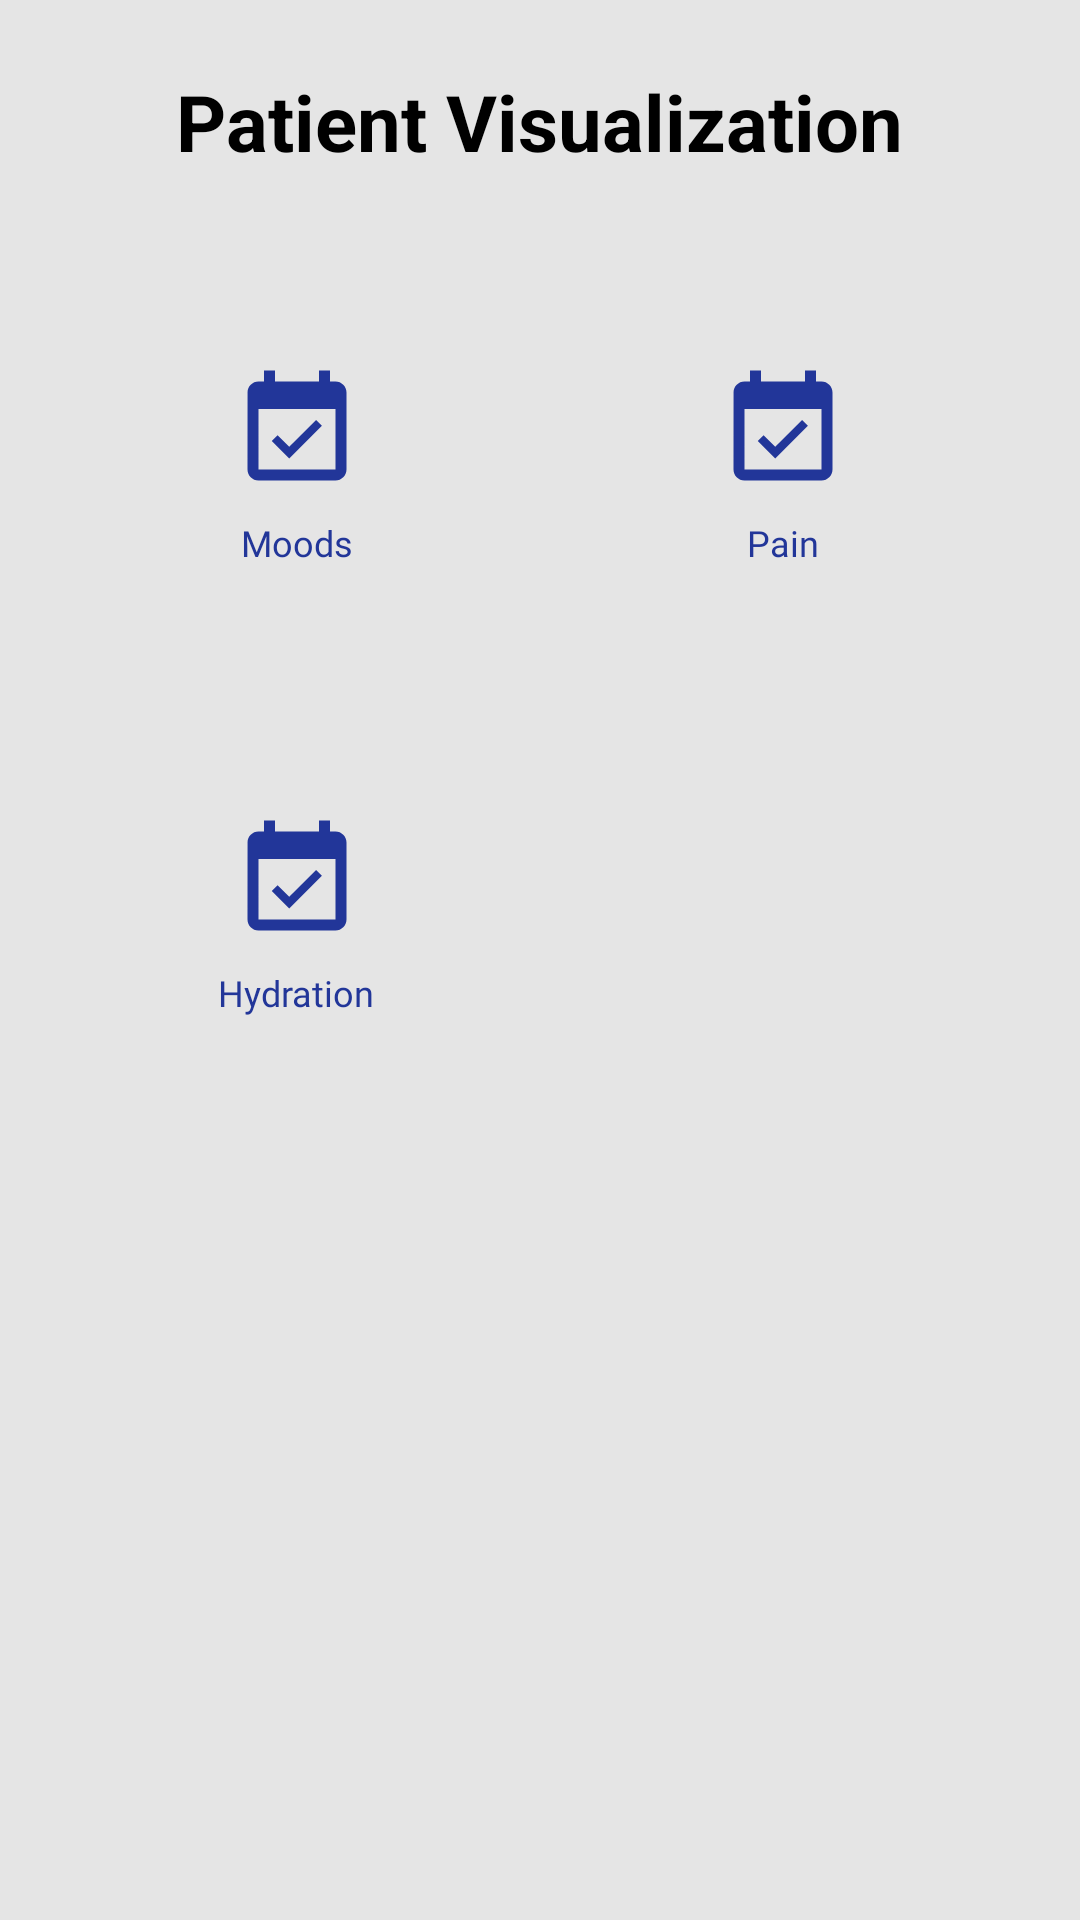

Named icons in this screenshot (1080*1920) and their bounding boxes, box(x1, y1, x2, y2):
calendar: box(247, 370, 347, 481), box(733, 370, 833, 481), box(247, 820, 347, 931)
